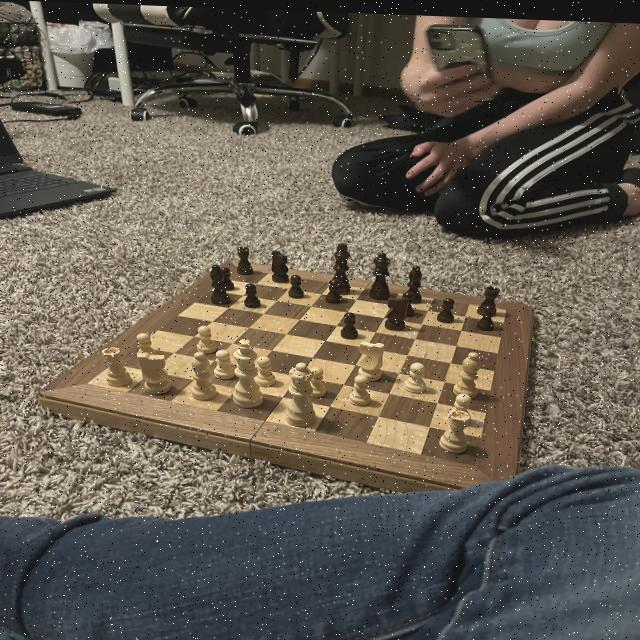bishop: (400, 259, 426, 305), (209, 262, 235, 306)
black-bishop: (327, 238, 355, 293)
black-king: (380, 292, 413, 330), (268, 247, 290, 283)
black-knight: (474, 299, 498, 330), (338, 308, 361, 340), (434, 294, 458, 321), (324, 275, 345, 303), (217, 263, 237, 291), (241, 282, 262, 308), (288, 271, 306, 297)
black-pawn: (365, 245, 395, 299)
black-queen: (476, 283, 503, 316), (233, 243, 258, 277)
black-rook: (453, 347, 487, 401), (188, 351, 220, 402)
white-bishop: (232, 336, 267, 408)
white-king: (135, 349, 178, 399), (355, 337, 389, 382)
white-knight: (446, 389, 476, 423), (347, 371, 374, 406), (302, 363, 328, 399), (249, 353, 277, 386), (211, 347, 238, 380), (134, 329, 161, 361), (404, 358, 429, 392), (192, 323, 218, 353)
white-pawn: (281, 359, 320, 429)
white-queen: (436, 405, 476, 455), (99, 345, 135, 389)
